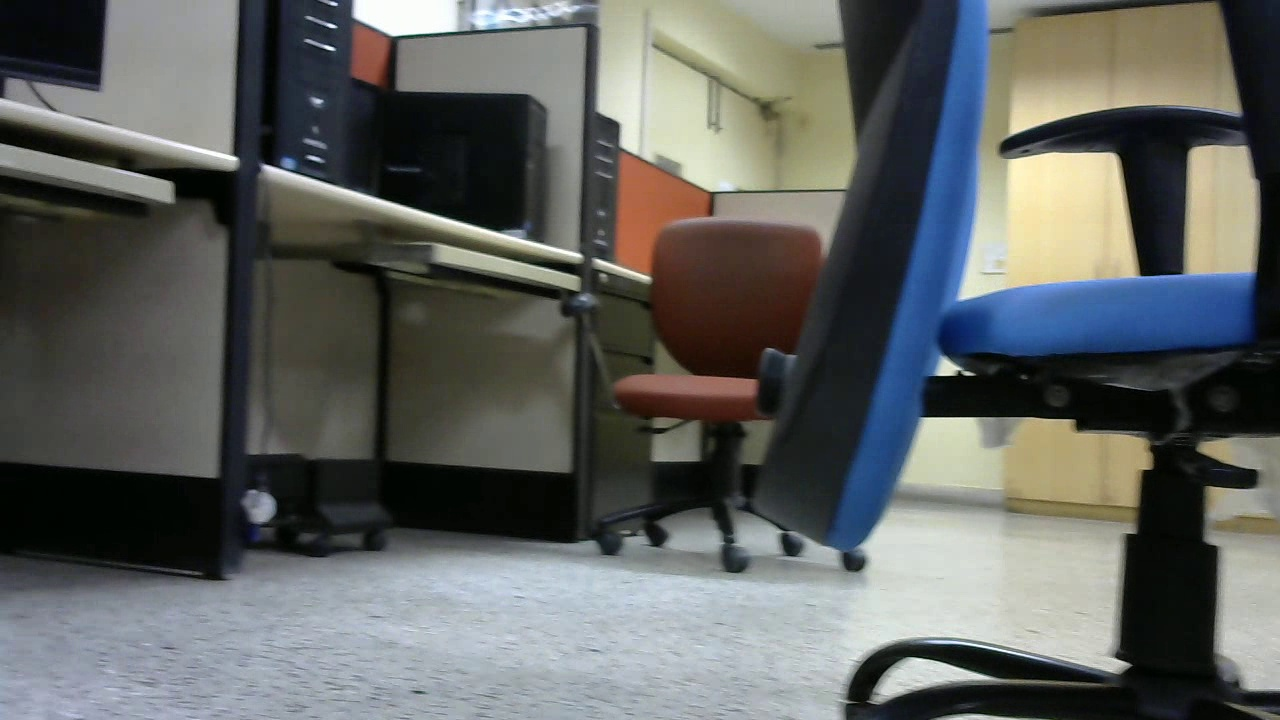chair: (570, 219, 874, 576)
